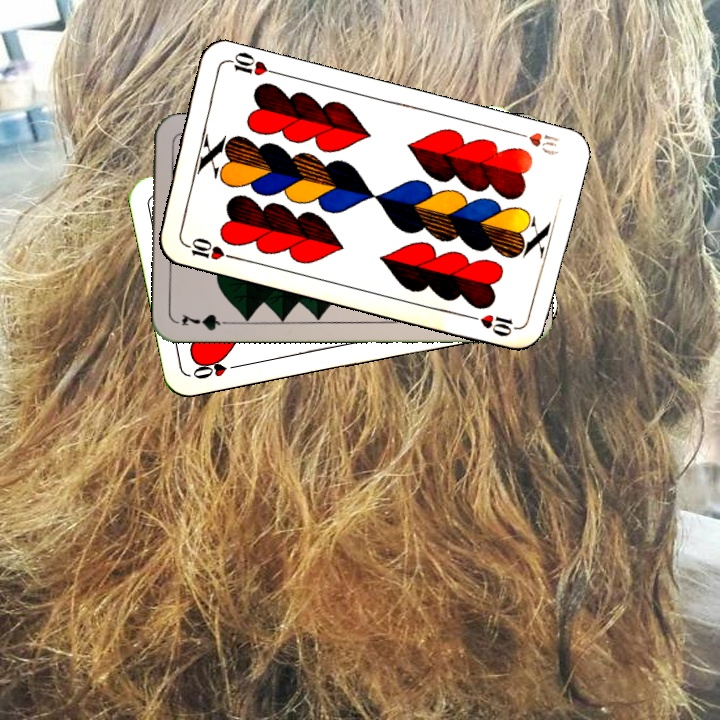G7: (178, 310, 236, 333)
H10: (179, 233, 237, 263), (507, 127, 561, 158)
HO: (188, 356, 247, 382)
